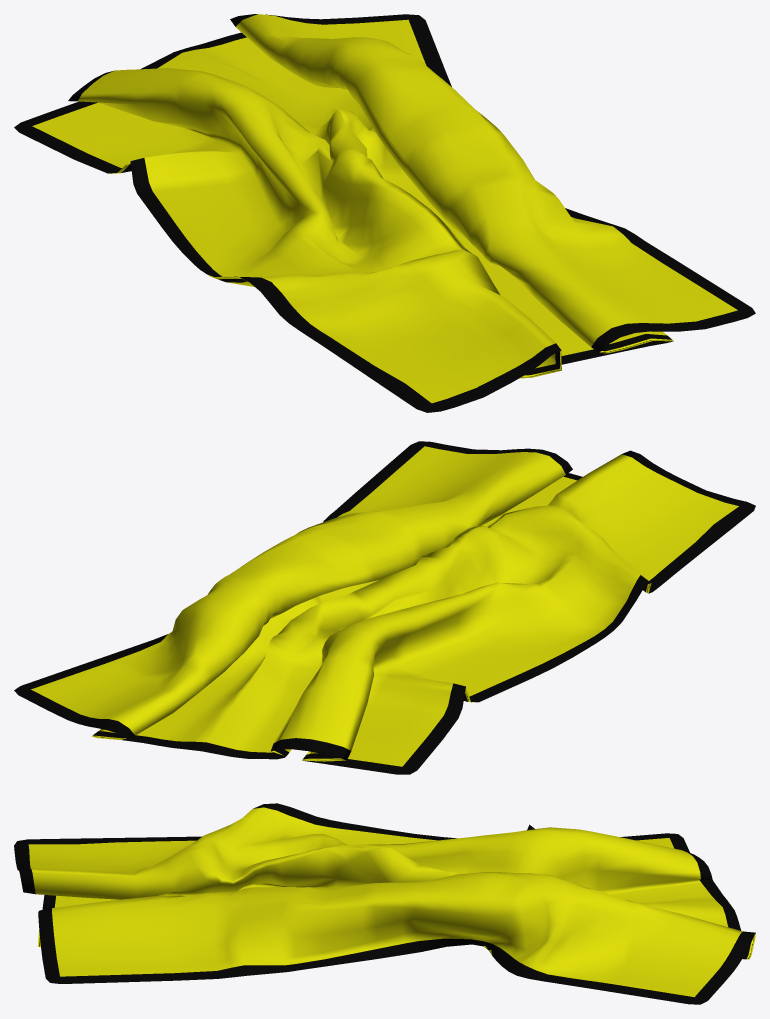
Rendered from Cloth_2.fbx.
The picture shows the model from 3 angles, top to bottom: view 1: azimuth 30°, elevation 25°; view 2: azimuth 150°, elevation 25°; view 3: azimuth 270°, elevation 25°; orthographic projection. The views are drawn at different scales.
Visible parts, largest first — view 1: Cloth_2; view 2: Cloth_2; view 3: Cloth_2.
Boxes of the visible parts, x1=… form: Cloth_2: x1=14, y1=14, x2=755, y2=412; Cloth_2: x1=14, y1=441, x2=755, y2=774; Cloth_2: x1=14, y1=803, x2=755, y2=1004.
Size of the model in its own units: 29.04 by 5.15 by 51.39.
